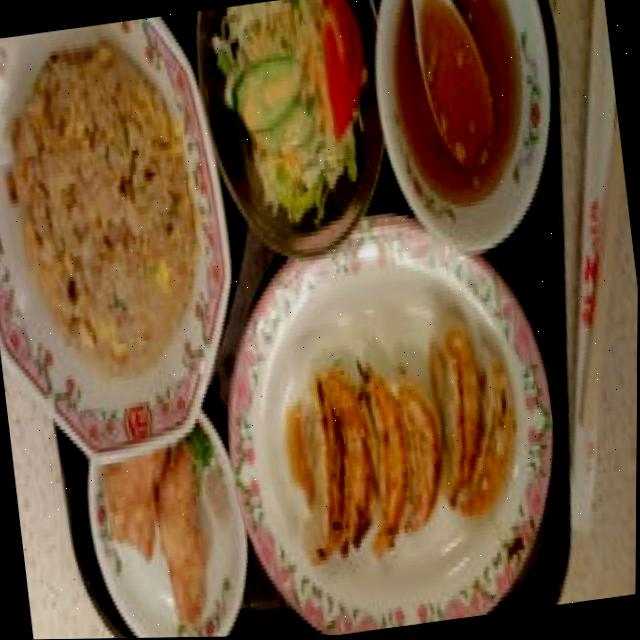带馅早点: (203, 242, 574, 638)
汤锅炖物: (347, 0, 570, 276)
米饭主食: (0, 11, 243, 480)
蔬菜料理: (190, 0, 397, 256)
